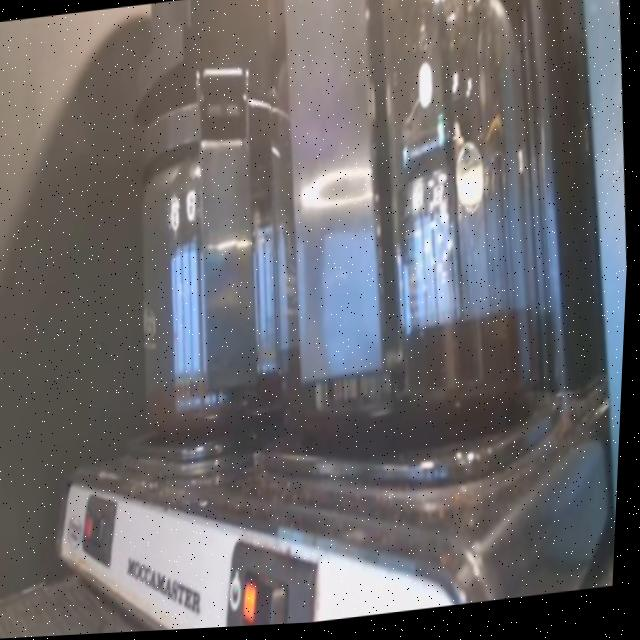coffee: (251, 0, 564, 463), (109, 96, 306, 462)
